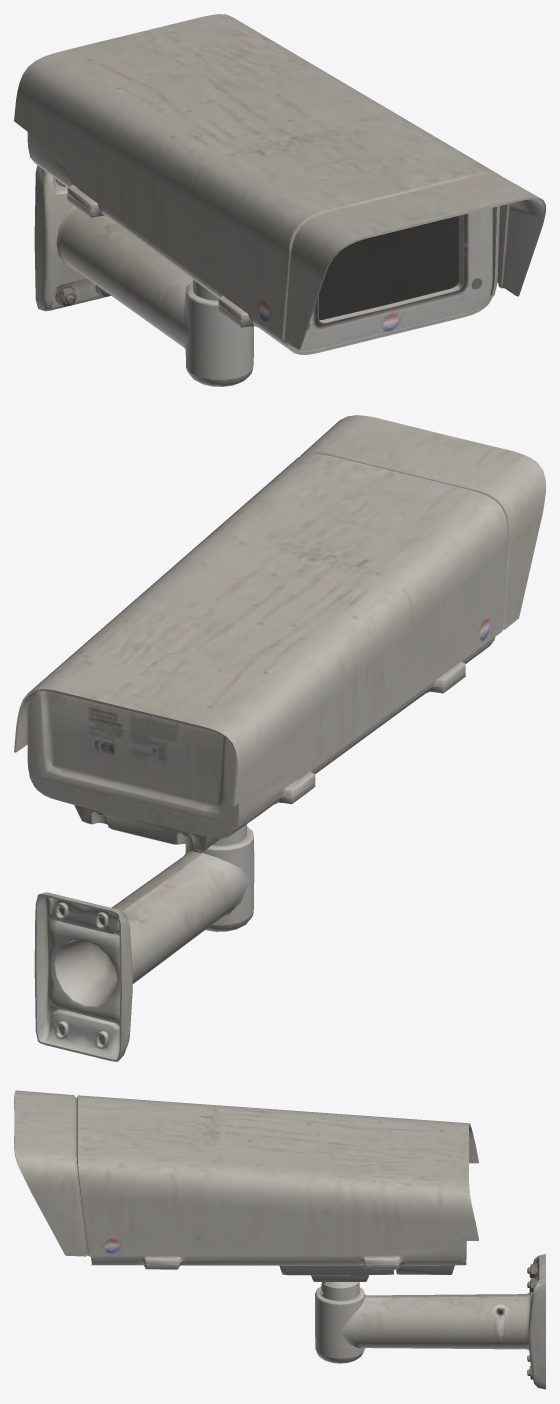
File: security_camera_02.7c3ef123.glb
3 views of the same model, one above another, from view 1: azimuth 30°, elevation 25°; view 2: azimuth 150°, elevation 25°; view 3: azimuth 270°, elevation 25° (orthographic). The views are drawn at different scales.
Parts seen in each view (by area): view 1: security_camera_02, security_camera_02_mount; view 2: security_camera_02, security_camera_02_mount; view 3: security_camera_02, security_camera_02_mount.
Part boxes in pixels (x1,y1,x2,y2): security_camera_02: (14,14,545,354); security_camera_02_mount: (34,165,253,386); security_camera_02: (14,415,545,851); security_camera_02_mount: (34,824,254,1061); security_camera_02: (14,1090,478,1294); security_camera_02_mount: (315,1254,545,1389).
Bounding box in the file's own units: 0.2571 × 0.3814 × 0.72.
2 materials, 2 textured.
